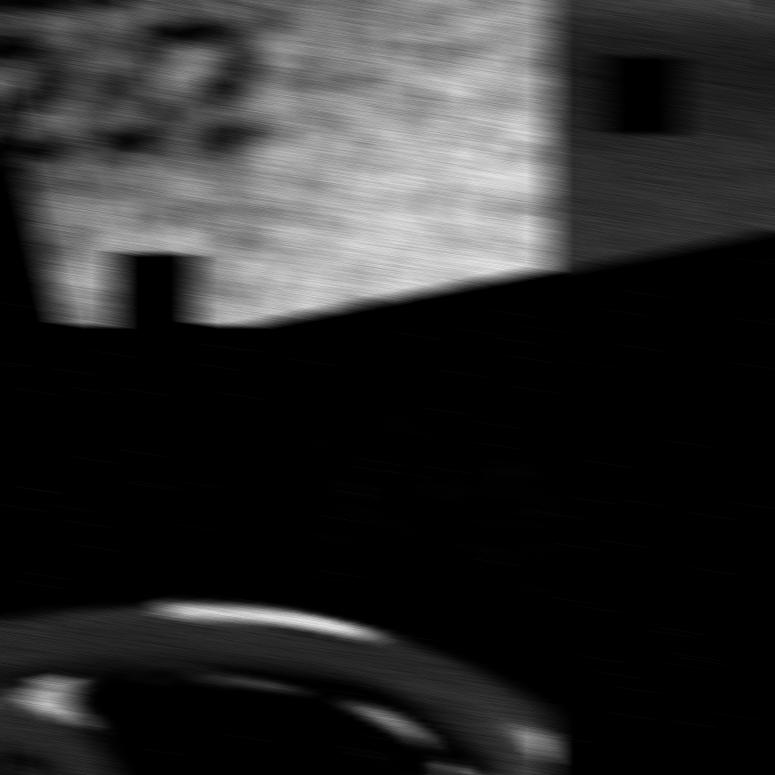Airbag: (0, 324, 555, 775), (0, 0, 555, 325), (544, 0, 775, 325)
